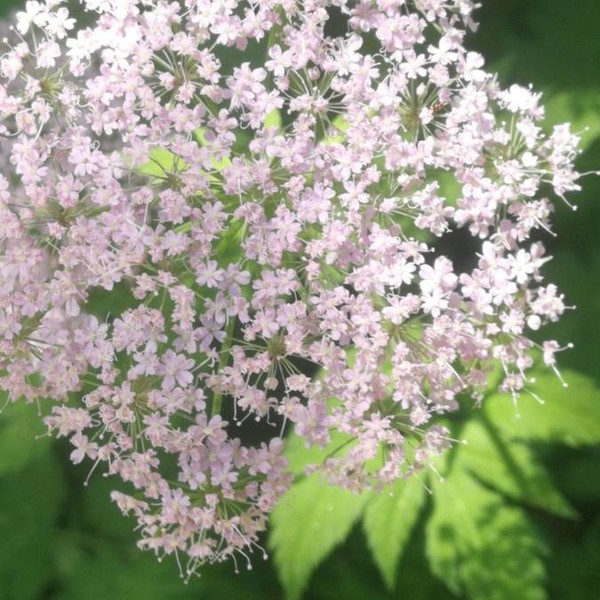obstacle: (36, 31, 509, 498)
